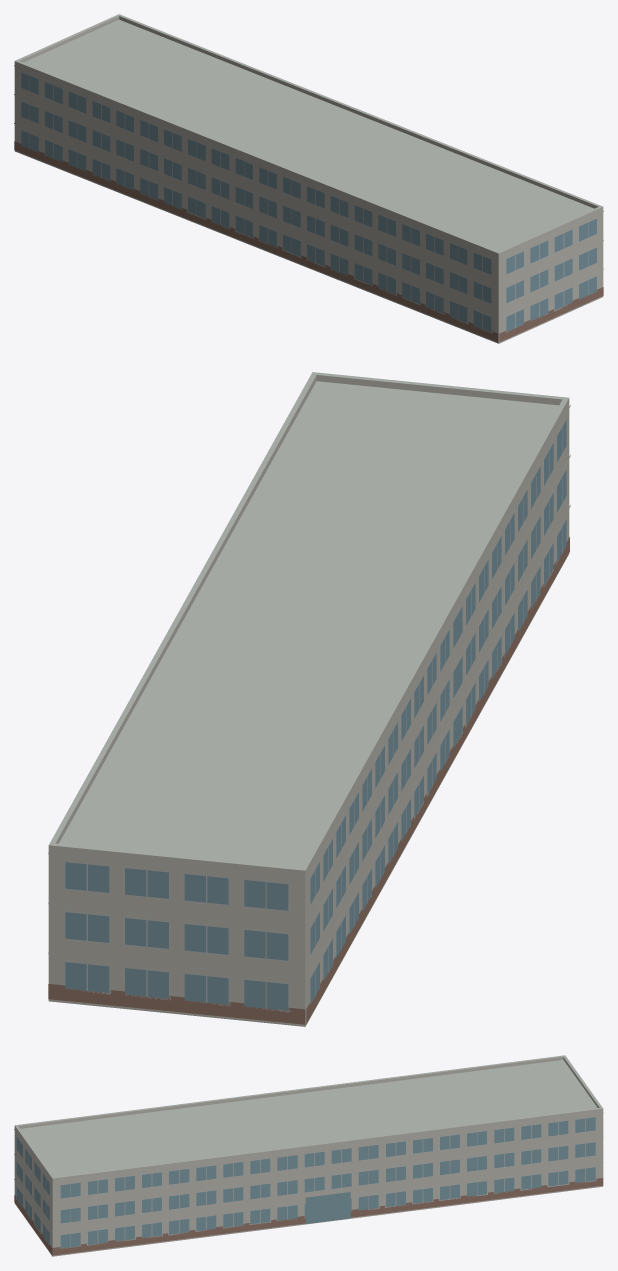
Rendered from public-a60c071f-837e-4795-abeb-683ce6a5762c.glb.
The picture shows the model from 3 angles, top to bottom: view 1: azimuth 30°, elevation 25°; view 2: azimuth 150°, elevation 25°; view 3: azimuth 270°, elevation 25°; orthographic projection. The views are drawn at different scales.
Parts seen in each view (by area): view 1: public-a60c071f-837e-4795-abeb-683ce6a5762c; view 2: public-a60c071f-837e-4795-abeb-683ce6a5762c; view 3: public-a60c071f-837e-4795-abeb-683ce6a5762c.
Part boxes in pixels (x1,y1,x2,y2): public-a60c071f-837e-4795-abeb-683ce6a5762c: [14, 14, 603, 343]; public-a60c071f-837e-4795-abeb-683ce6a5762c: [48, 372, 570, 1026]; public-a60c071f-837e-4795-abeb-683ce6a5762c: [14, 1055, 603, 1256].
Size of the model in its own units: 31.15 by 9.15 by 62.66.
